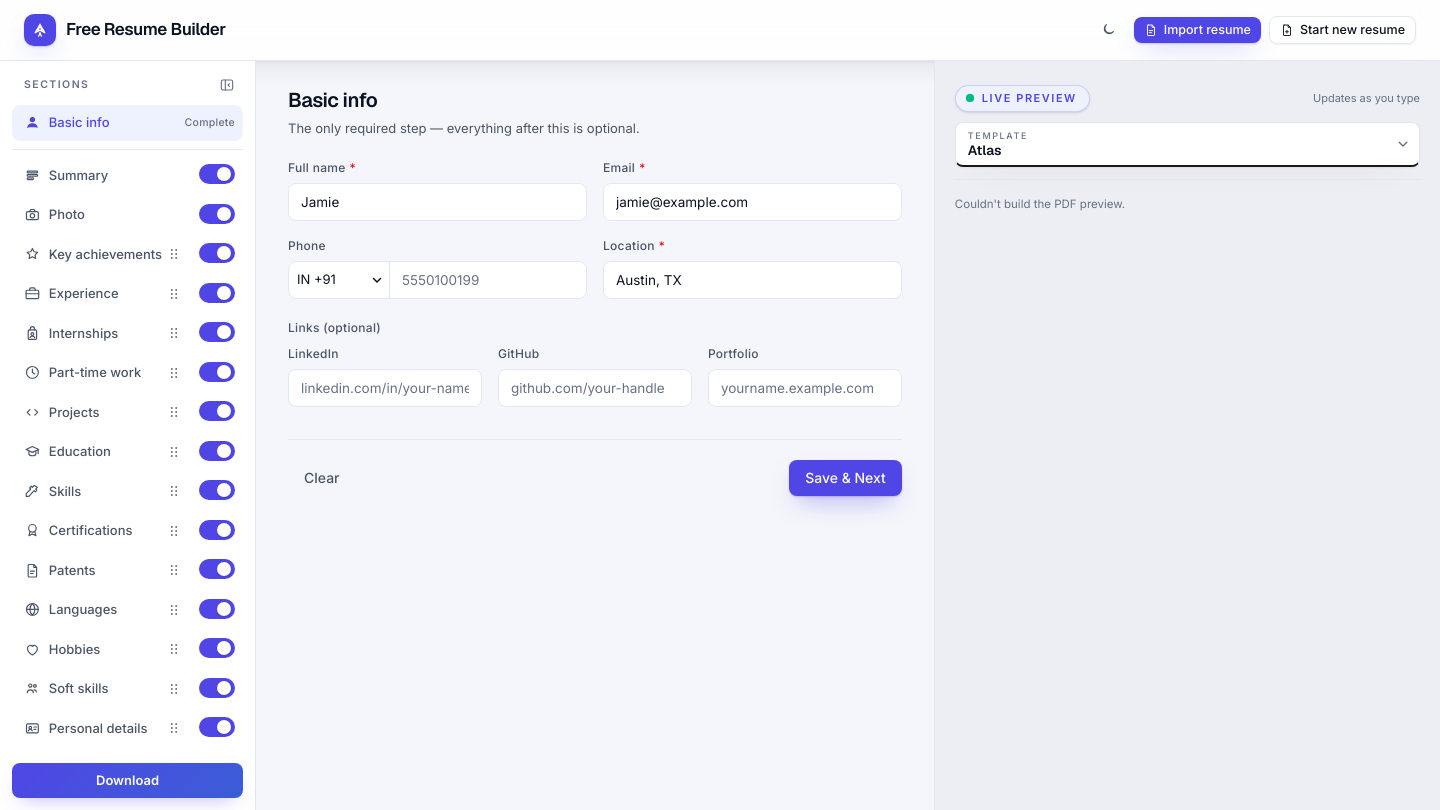
BuilderShell › walks basicInfo -> summary via the Next/Back footer buttons
Expected: the heading "Basic info" is shown, 288,87 -> 377,113
Step 1. Click the button "Save & Next" → coordinates (845, 478), box 789,460 -> 902,496
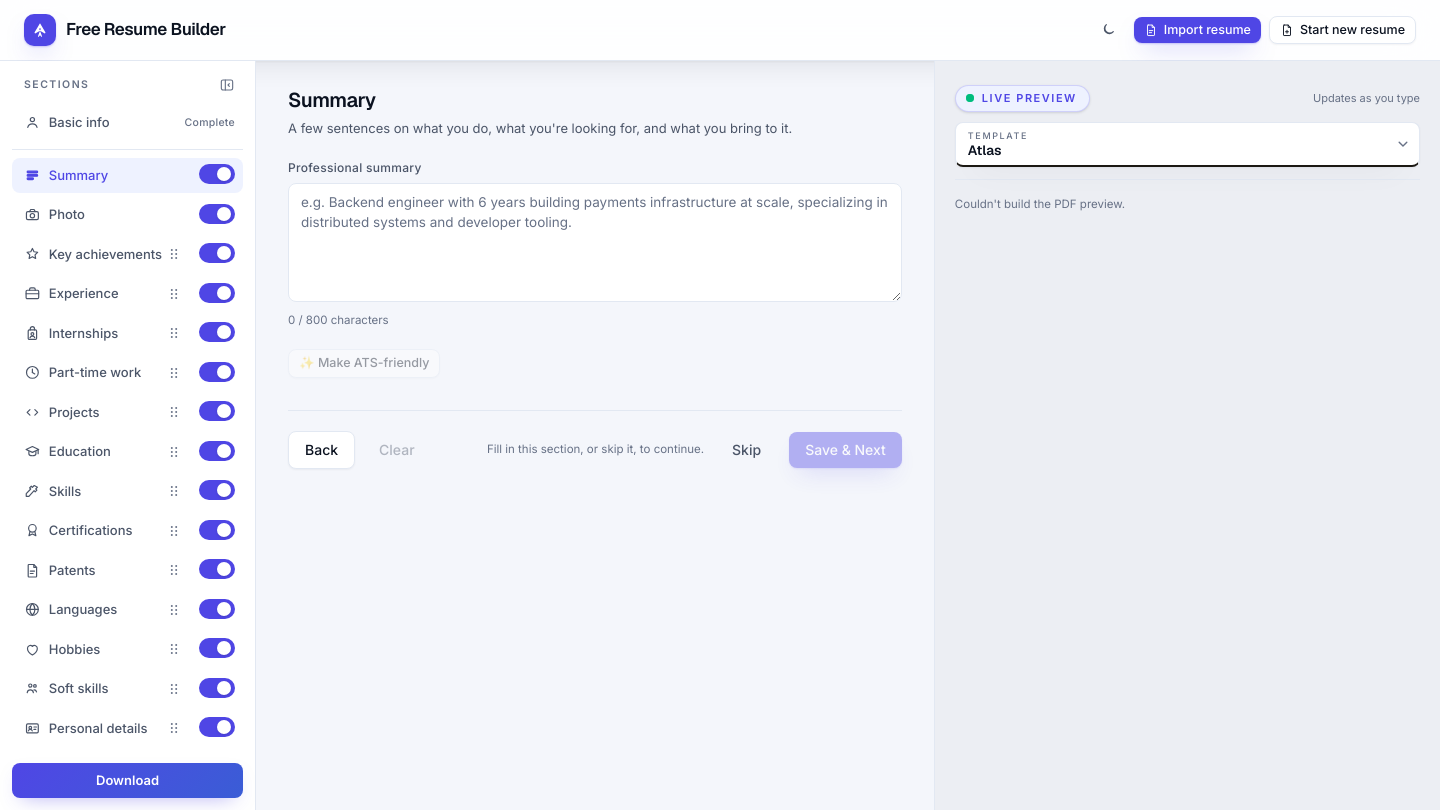
Expected: the heading "Summary" is shown, 288,87 -> 376,113
Step 2. Click the button "Back" → coordinates (322, 450), box 288,431 -> 355,469
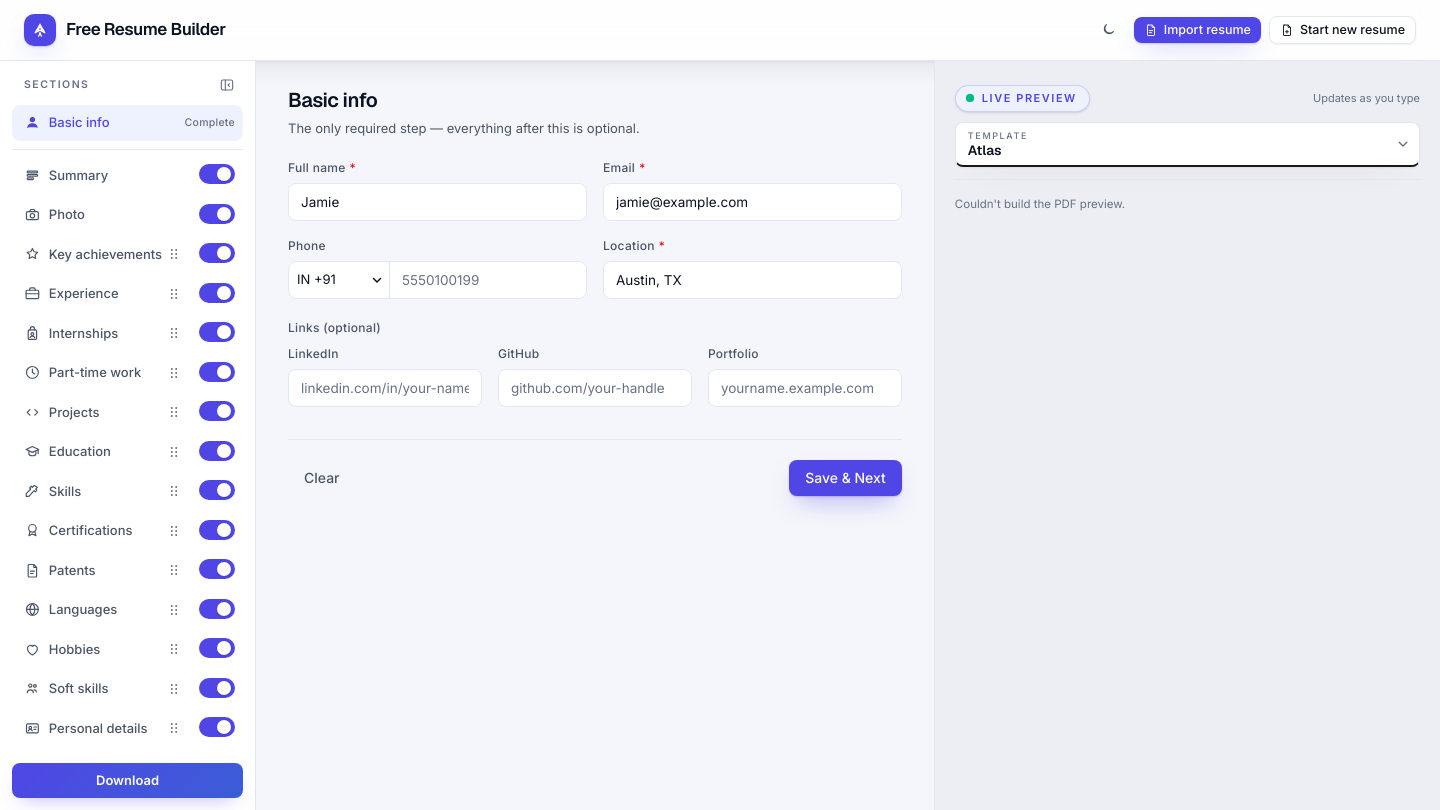
Expected: the heading "Basic info" is shown, 288,87 -> 377,113
